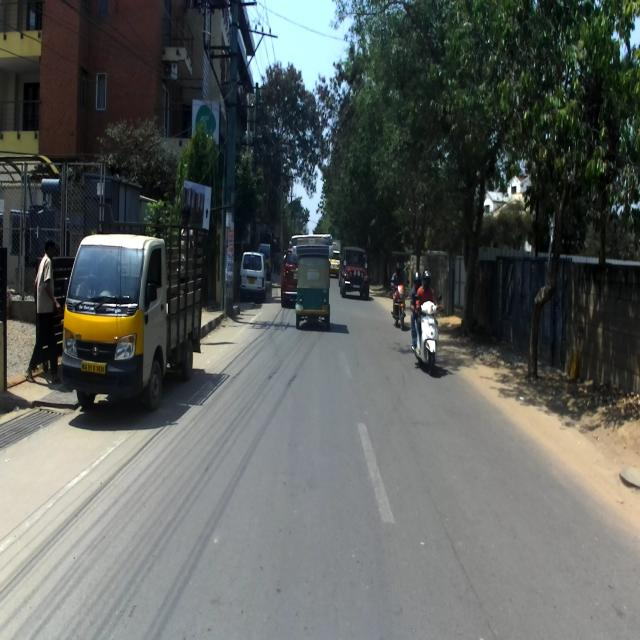Car_JEEP: (339, 246, 369, 300)
Car_Mahindra: (279, 240, 300, 308)
Car_Maruti-Suzuki: (239, 250, 266, 302)
autorickshaw: (295, 255, 331, 329)
motorcycle_Hero: (391, 279, 408, 330)
scooter: (411, 292, 442, 373)
truck: (53, 221, 217, 418)
